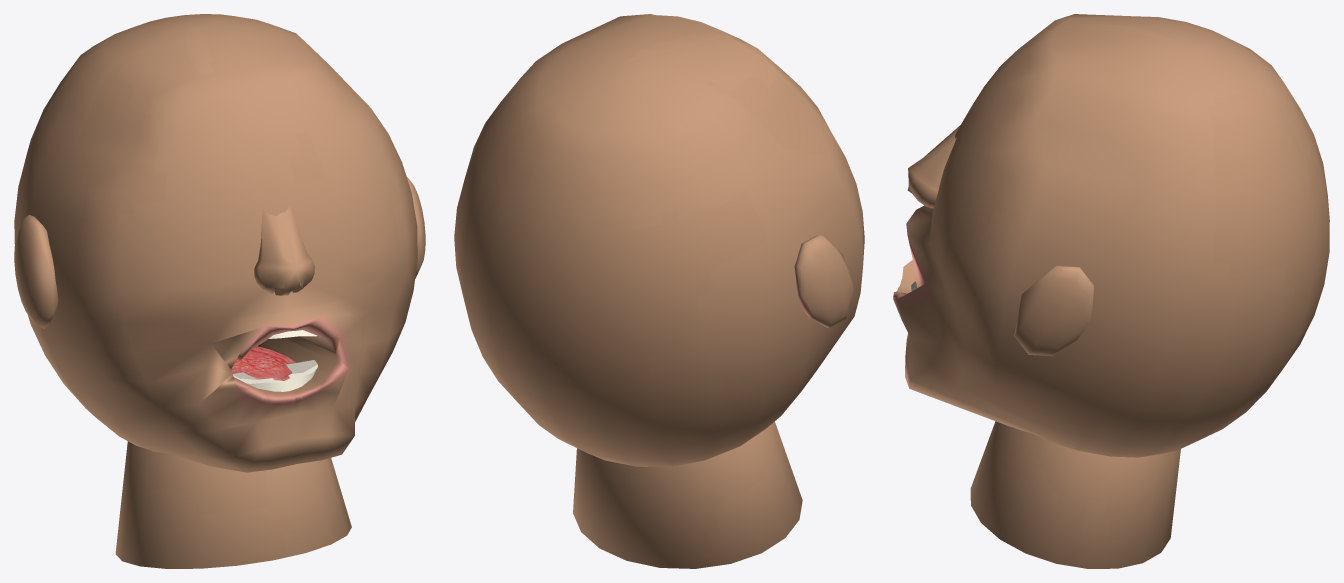
File: Kopf mit Mund2.fbx
The picture shows the model from 3 angles, left to right: view 1: azimuth 30°, elevation 25°; view 2: azimuth 150°, elevation 25°; view 3: azimuth 270°, elevation 25°; orthographic projection.
Visible parts, largest first — view 1: pSphere17; view 2: pSphere17; view 3: pSphere17.
Part boxes in pixels (x1,y1,x2,y2): pSphere17: (14,14,425,568); pSphere17: (454,14,864,568); pSphere17: (893,14,1329,568).
Bounding box in the file's own units: 5.82 × 7.73 × 6.13.
Materials: 4 (4 with a texture image).
